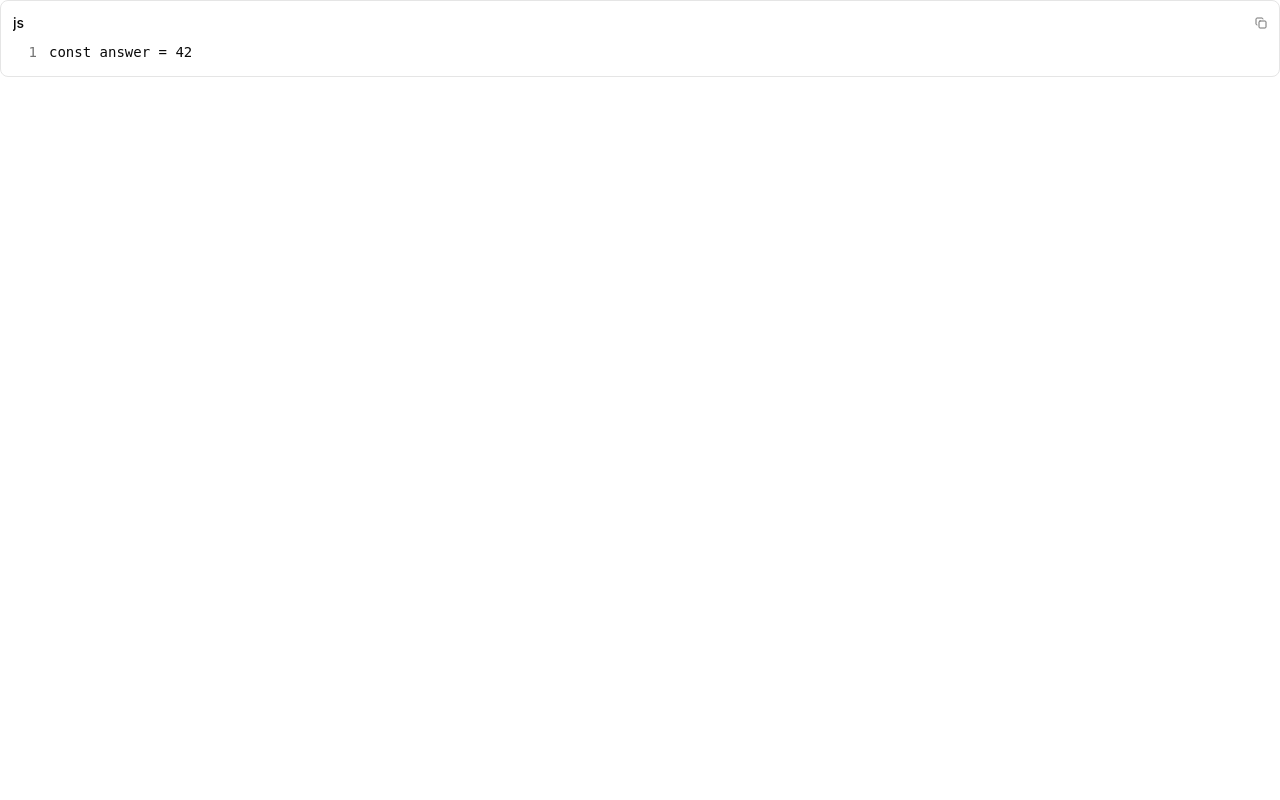
Test: announces when copying code is denied and clears the previous success
Click the button named "Copy": click(1261, 23) [1249,11,1273,35]
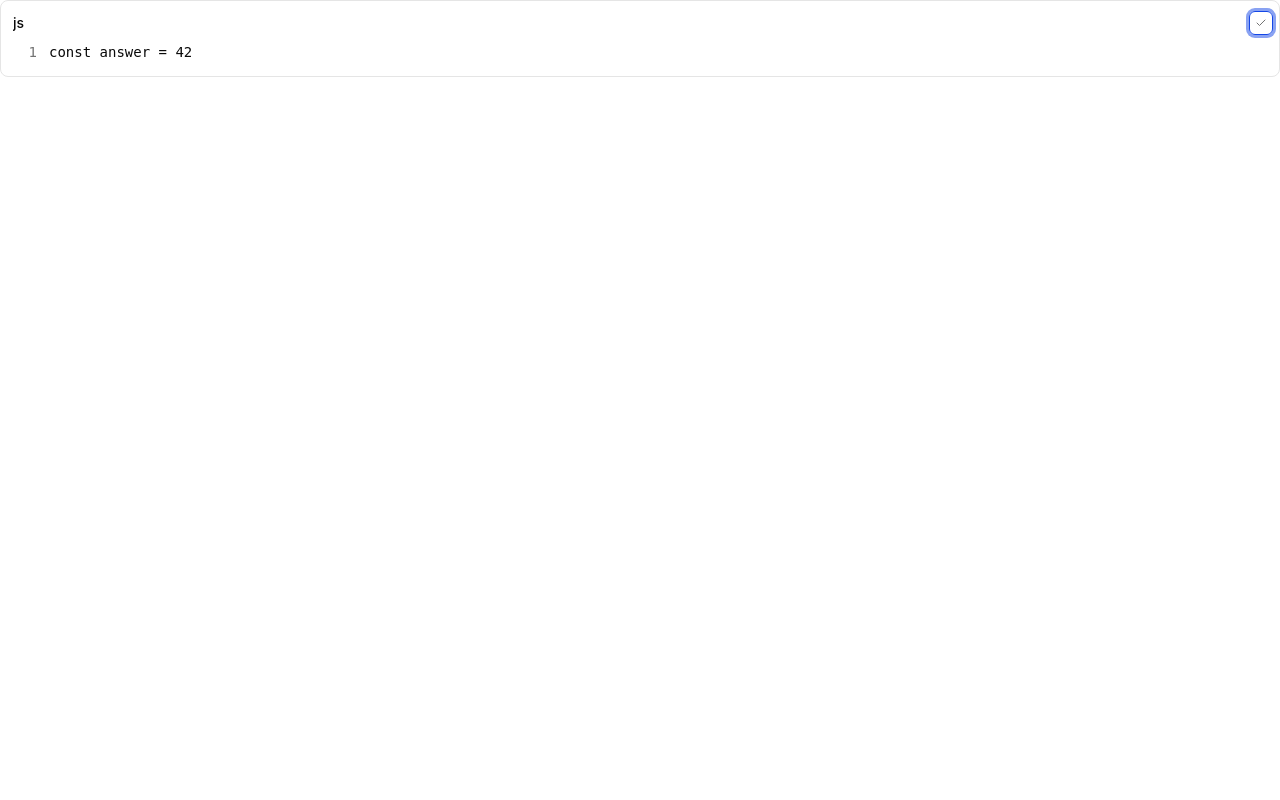
Expected: the text "Could not copy code." is not shown
Click the button named "Copied": click(1261, 23) [1249,11,1273,35]
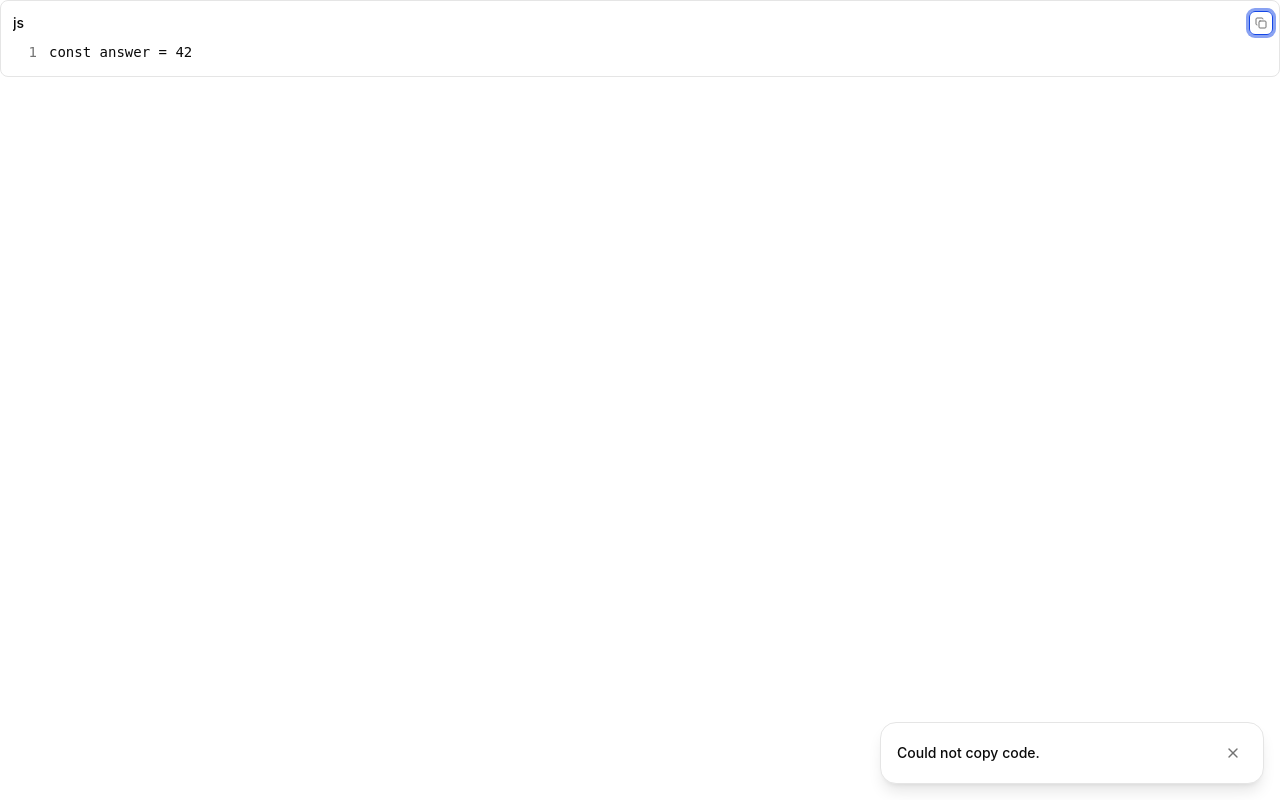
Result: the heading "Could not copy code." is shown at [897,744,1040,761]
